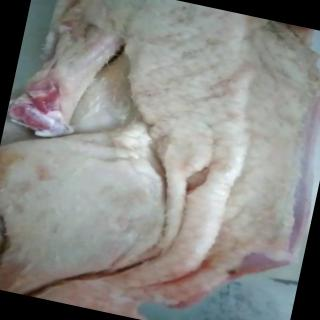Ayam: (1, 1, 320, 320)
